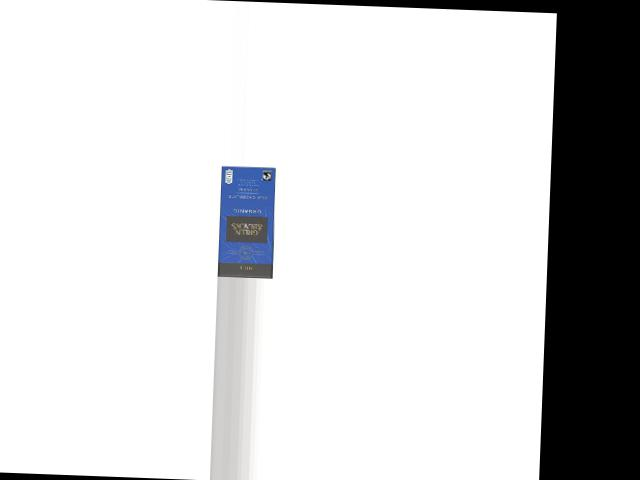chocolate: (216, 167, 277, 278)
